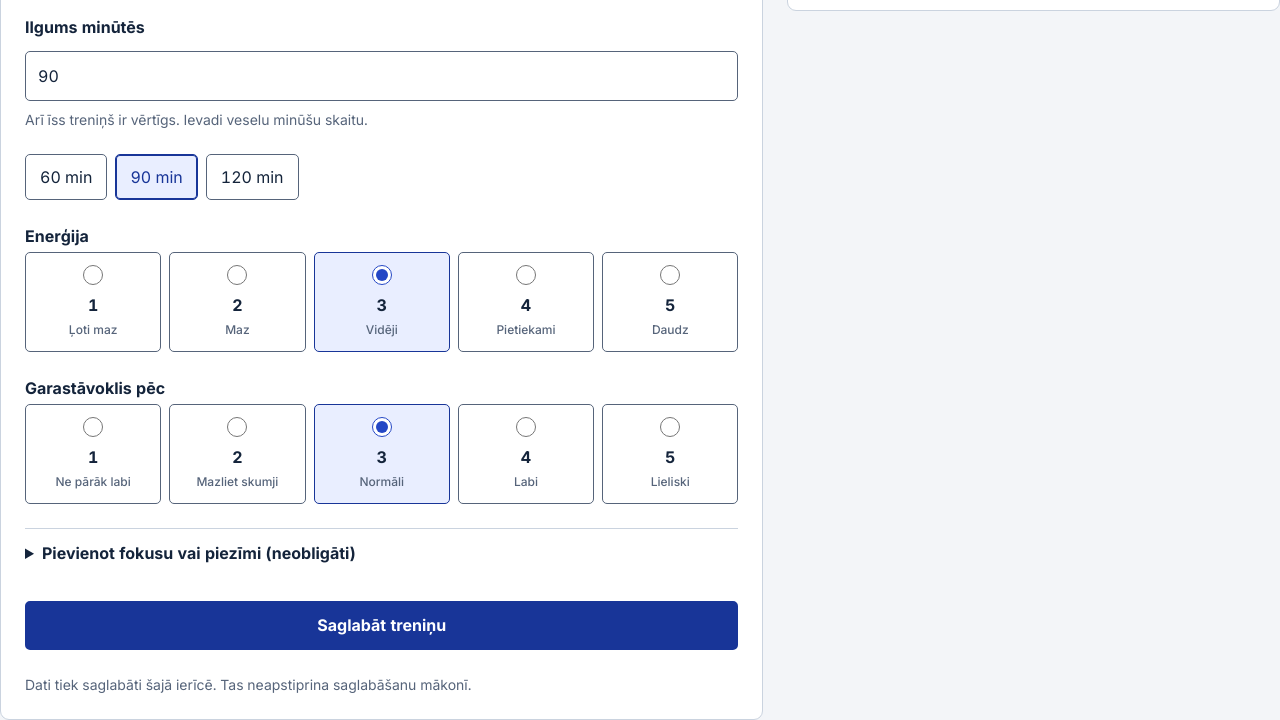
real training journey › shows translated fields and completion in lv
(page scrolled)
Expected: the number field labelled "Ilgums minūtēs" is shown, 25,51 -> 738,101
Click the button "Saglabāt treniņu".
click(382, 625)  # box 25,601 -> 738,650
(page scrolled)
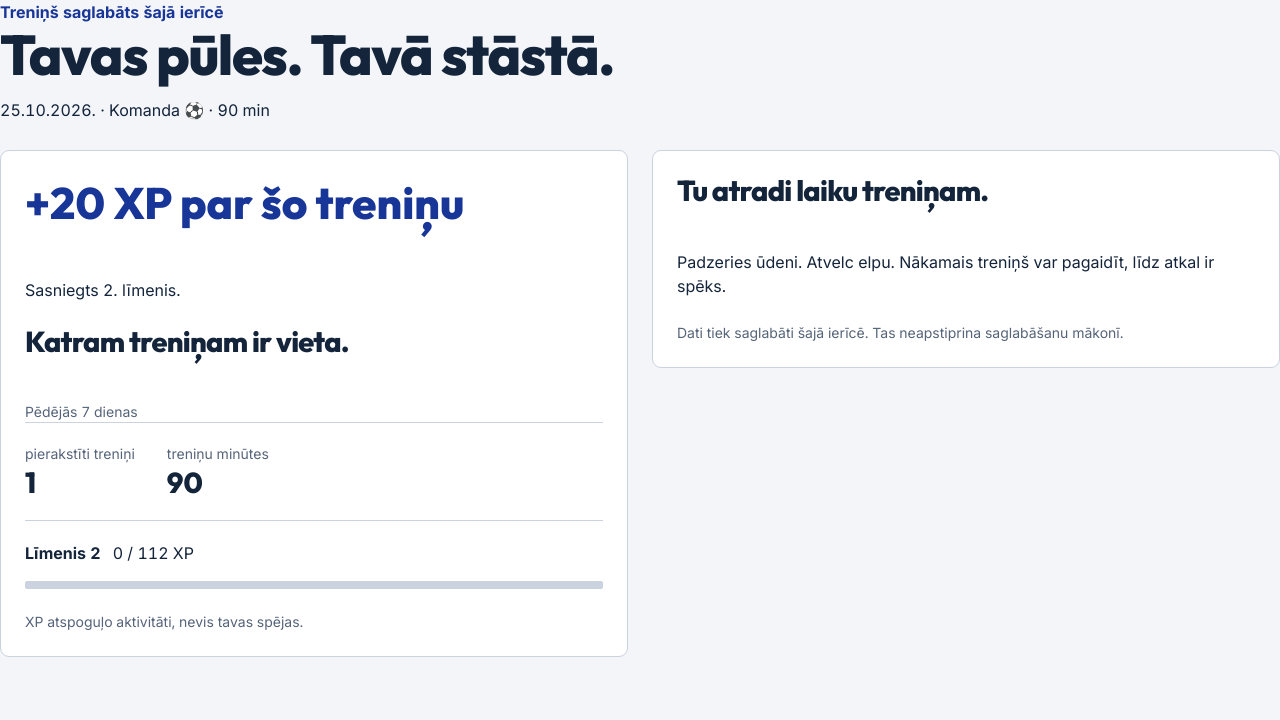
Expected: the text "Treniņš saglabāts šajā ierīcē" is shown, 0,2 -> 224,22
Expected: the heading "Tavas pūles. Tavā stāstā." is shown, 0,19 -> 614,90
